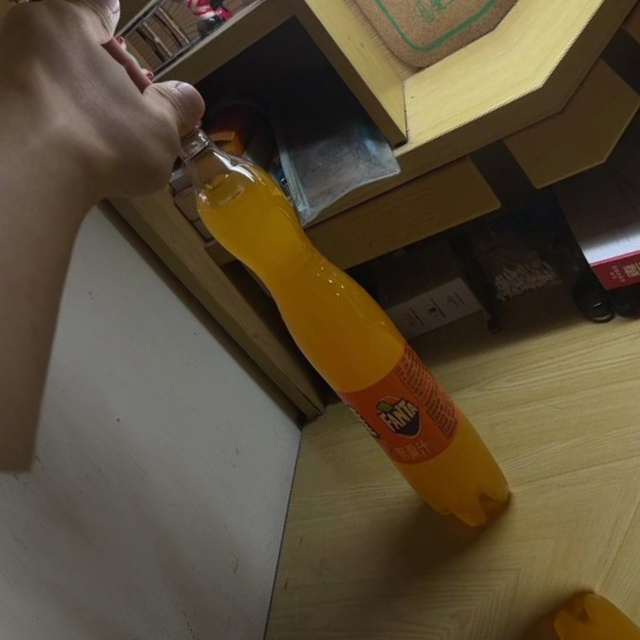Fanta: (116, 75, 530, 543)
